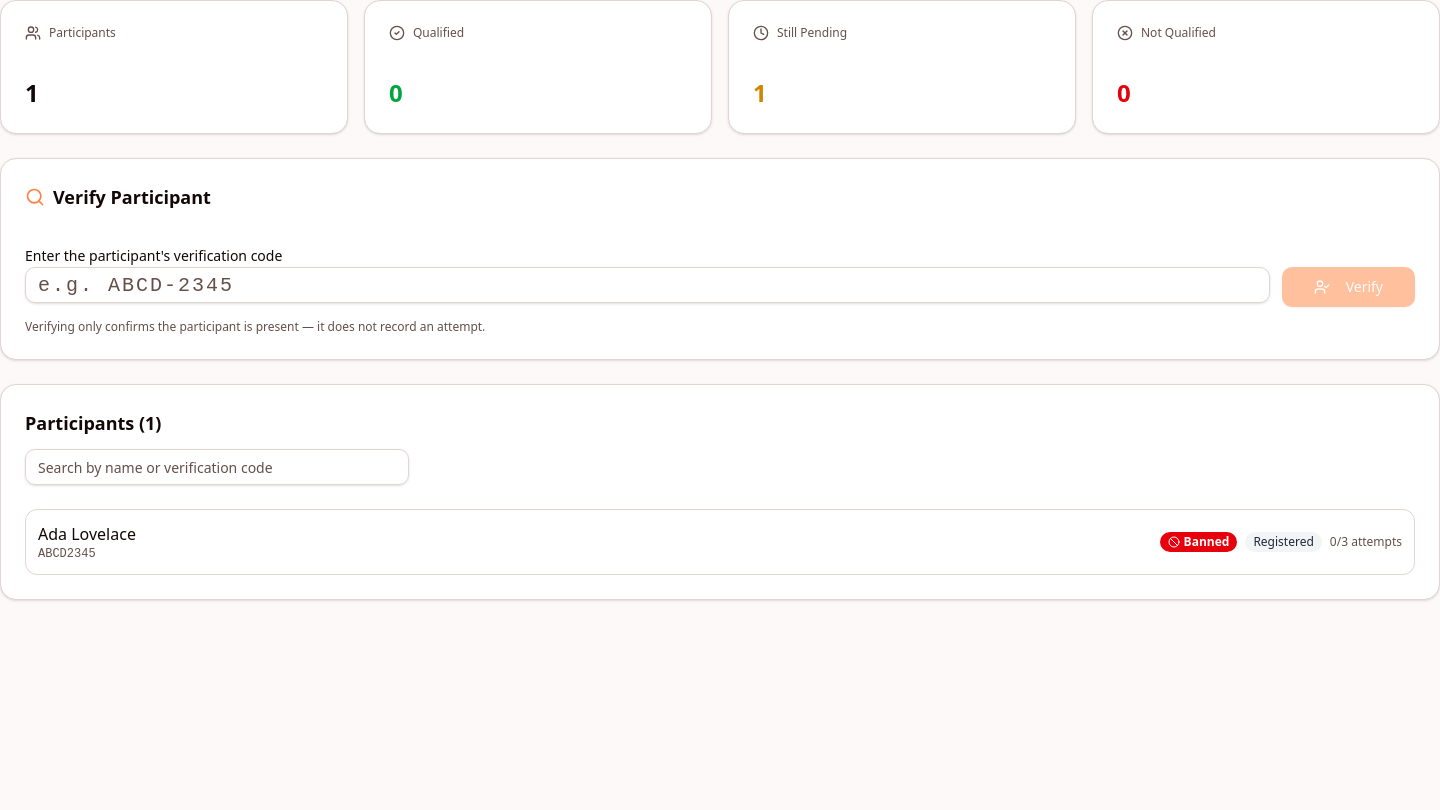
T-REM-3: ParticipantManager remove/ban › indicates a banned player and disables both actions
What coordinates should you click on to do the following:
click the button "Ada Lovelace ABCD2345 Banned Registered 0/3 attempts"
I would click on:
 (87, 534)
Its box is [25,509,1415,575].
(page scrolled)
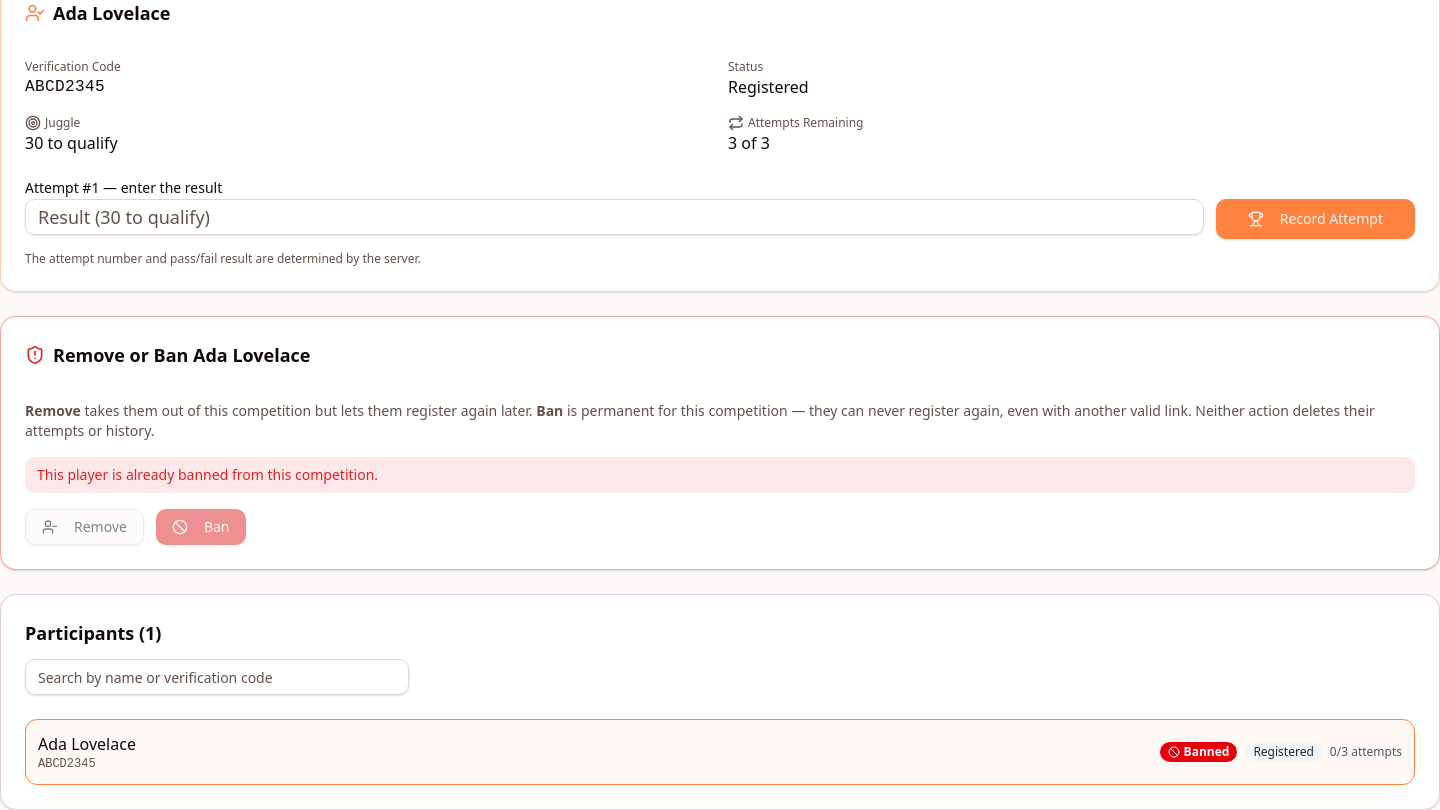
Now the button "Remove" is disabled, box [25,509,144,545]
Now the button "Ban" is disabled, box [156,509,246,545]
Now the text "This player is already banned from this competition." is shown, box [25,457,1415,493]
